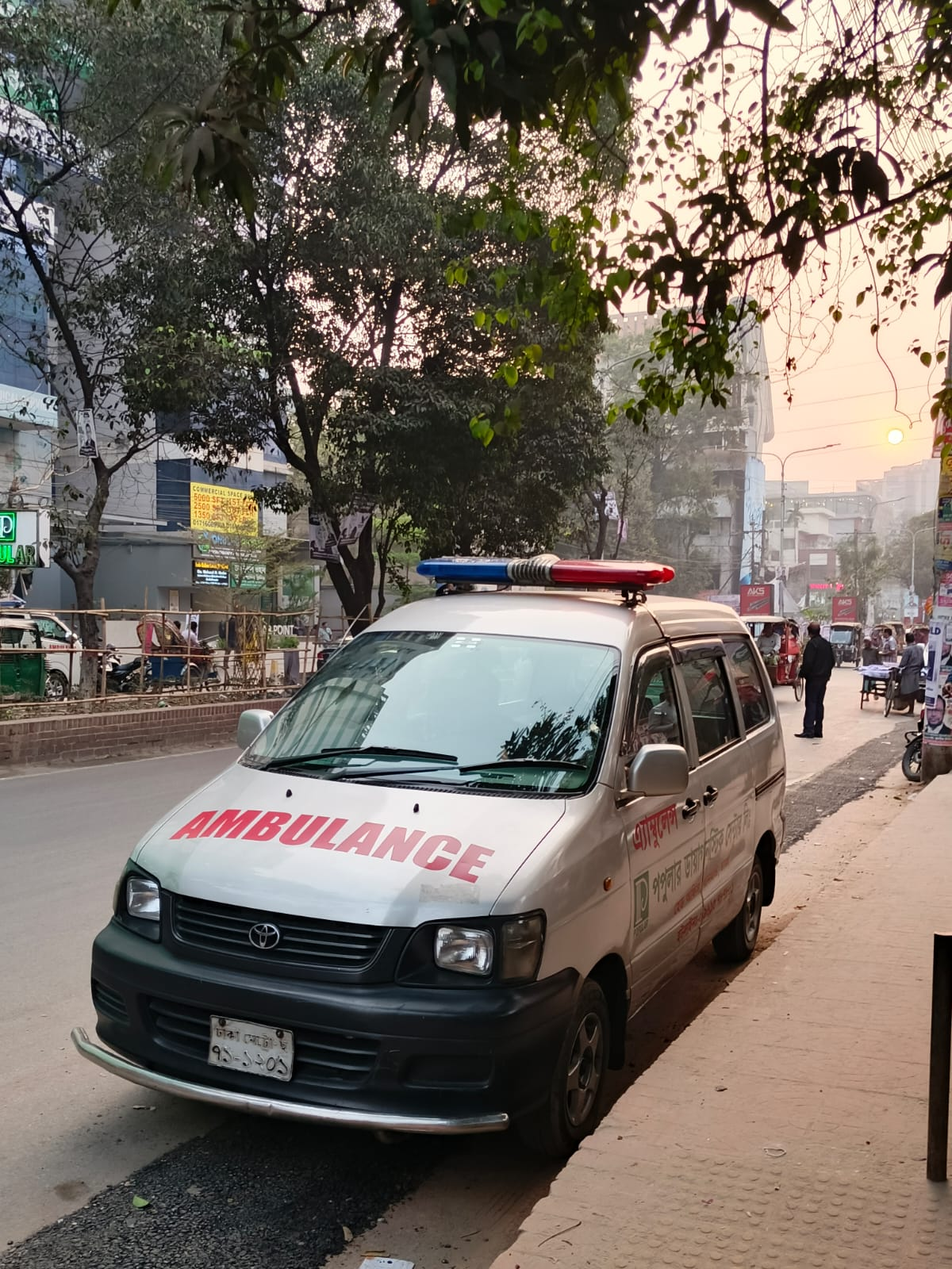Ambulance: (87, 533, 809, 1152)
